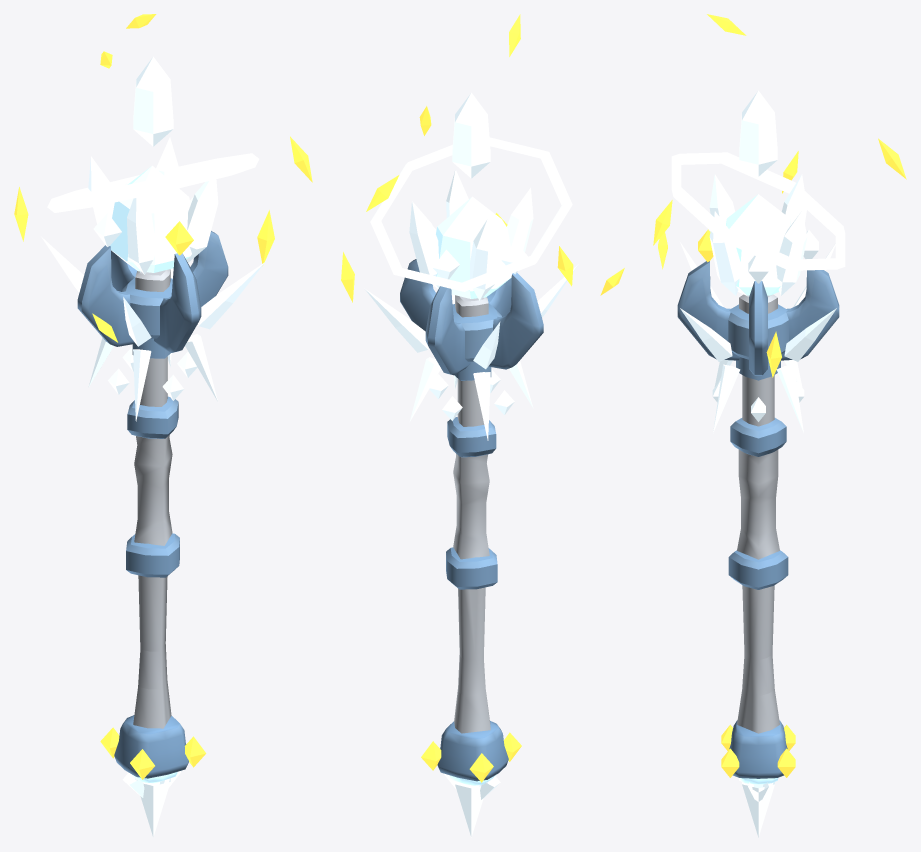
The model's file is staff_ice_legendary.glb.
The picture shows the model from 3 angles, left to right: view 1: azimuth 30°, elevation 25°; view 2: azimuth 150°, elevation 25°; view 3: azimuth 270°, elevation 25°; orthographic projection. The views are drawn at different scales.
Visible parts, largest first — view 1: staff_ice_legendary; view 2: staff_ice_legendary; view 3: staff_ice_legendary.
Boxes of the visible parts, x1,y1,x2,y2 form: staff_ice_legendary: (14,14,312,837); staff_ice_legendary: (341,14,624,837); staff_ice_legendary: (653,14,906,837).
Bounding box in the file's own units: 86.64 × 282 × 79.57.
Materials: 6 (2 with a texture image).
